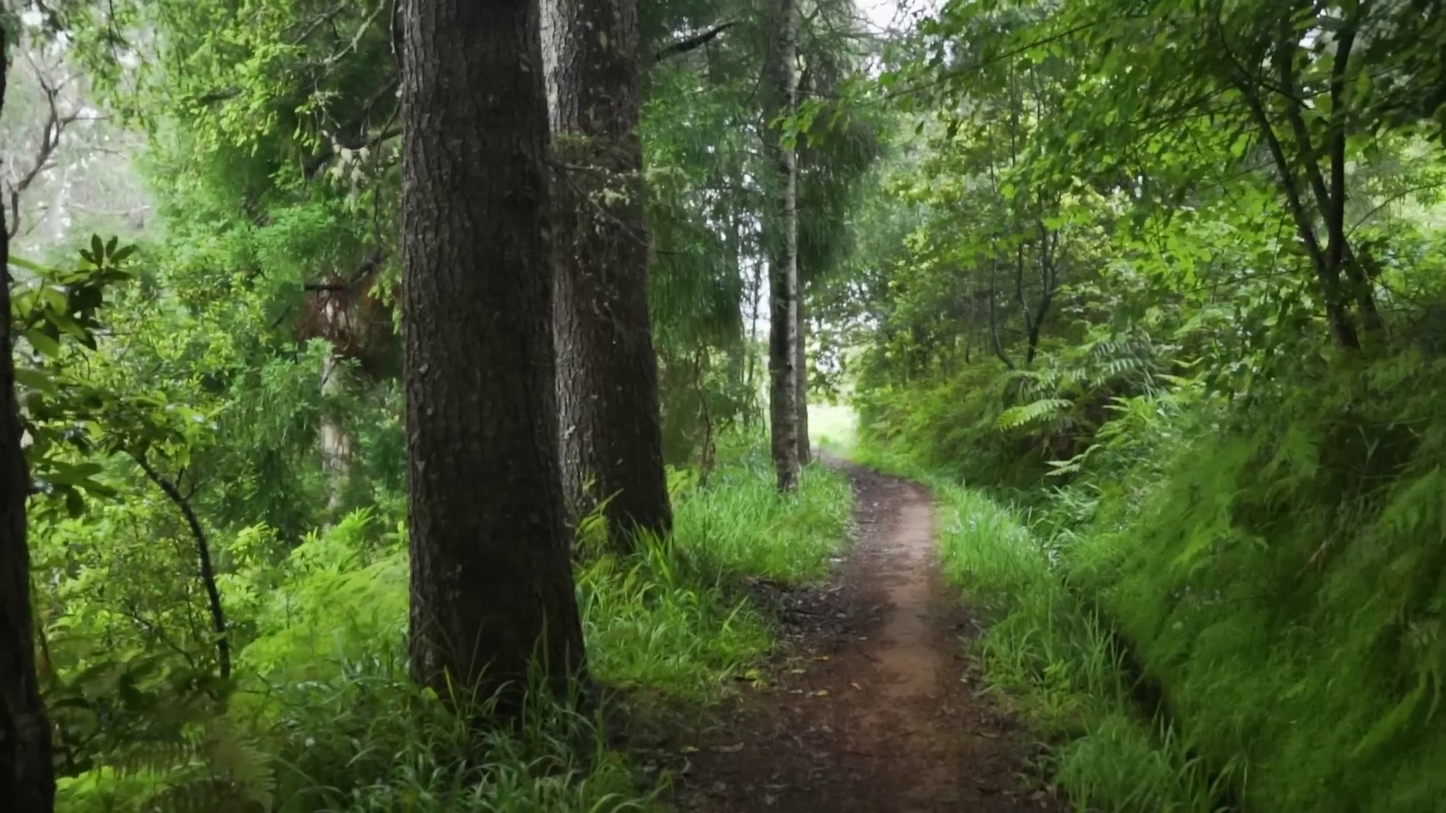tree: (401, 0, 584, 696), (542, 0, 671, 549), (0, 214, 54, 812), (764, 0, 805, 492)
